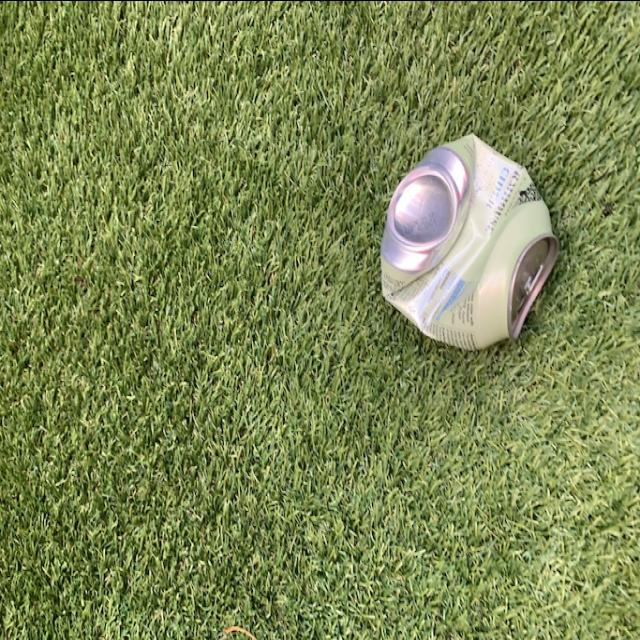Aluminum Can: (380, 130, 562, 344)
